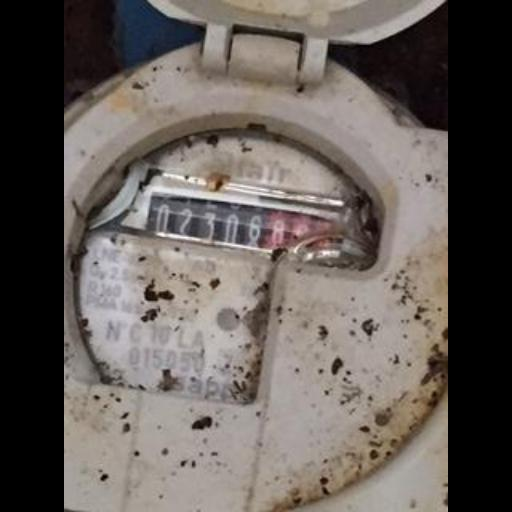0: (151, 191, 180, 234), (218, 200, 245, 245)
2: (172, 194, 199, 237)
3: (192, 197, 224, 242)
6: (239, 204, 269, 249)
8: (265, 207, 292, 250)
border_water_meter_number: (135, 166, 346, 264)
